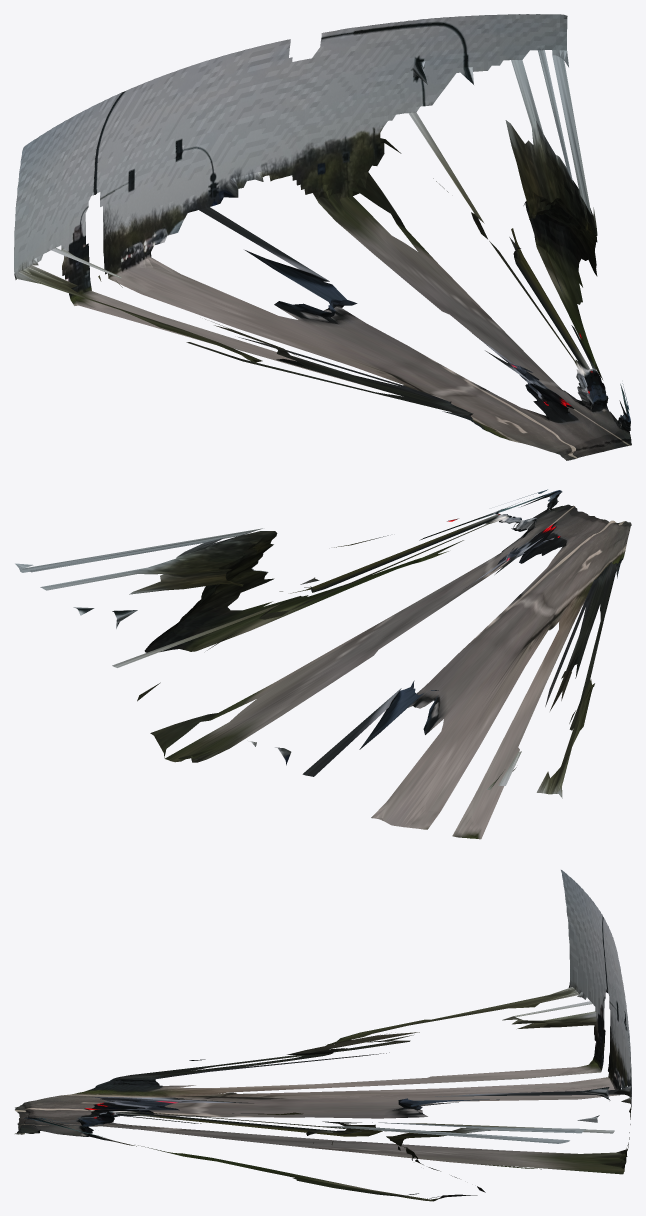
3 renders of one model, top to bottom at view 1: azimuth 30°, elevation 25°; view 2: azimuth 150°, elevation 25°; view 3: azimuth 270°, elevation 25°, orthographic. The views are drawn at different scales.
Visible parts, largest first — view 1: defaultobject; view 2: defaultobject; view 3: defaultobject.
Boxes of the visible parts, x1=… form: defaultobject: x1=14, y1=14, x2=631, y2=460; defaultobject: x1=15, y1=489, x2=631, y2=839; defaultobject: x1=15, y1=870, x2=631, y2=1201.
Bounding box in the file's own units: 41 × 14.07 × 44.61.
1 material, 1 textured.
